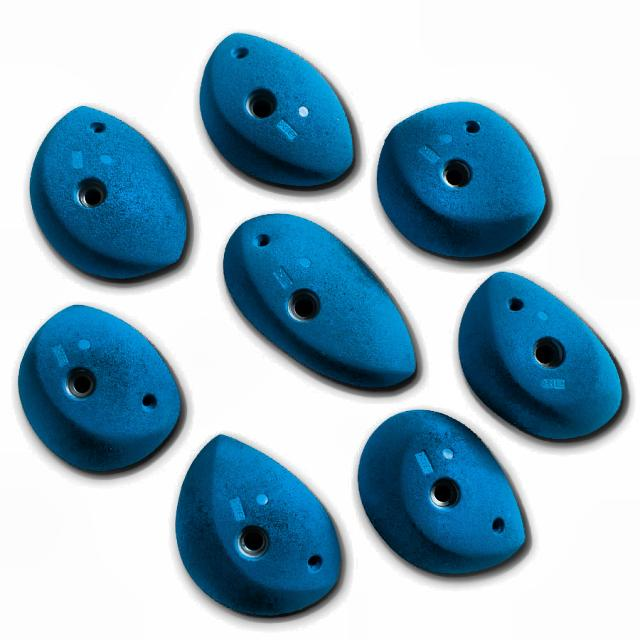Hold: (222, 211, 418, 389), (178, 434, 343, 616), (355, 412, 529, 580), (17, 302, 182, 476), (28, 104, 190, 281), (377, 95, 550, 258), (460, 273, 622, 438), (199, 26, 354, 188)
